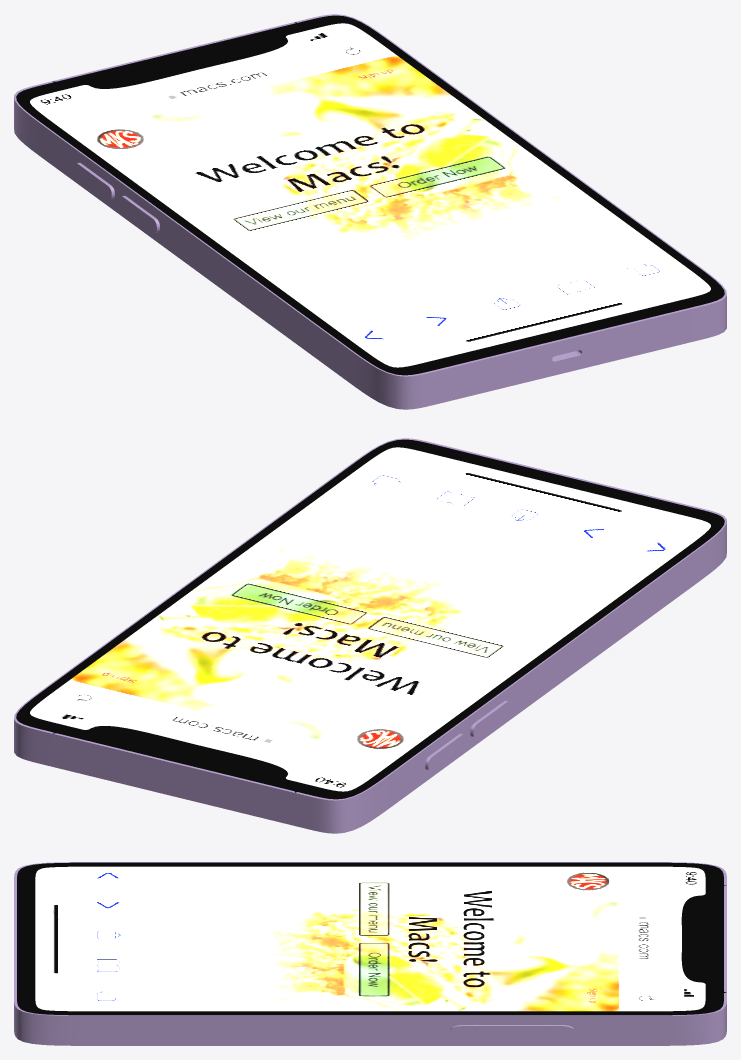
The model's file is macsPhone.gltf.
The picture shows the model from 3 angles, top to bottom: view 1: azimuth 30°, elevation 25°; view 2: azimuth 150°, elevation 25°; view 3: azimuth 270°, elevation 25°; orthographic projection. The views are drawn at different scales.
Parts seen in each view (by area): view 1: screen, phoneBase, front, volumeButtons; view 2: screen, phoneBase, front, volumeButtons; view 3: screen, phoneBase, front, powerButton.
Part boxes in pixels (x1,y1,x2,y2): screen: [30, 23, 710, 367]; phoneBase: [14, 14, 726, 409]; front: [16, 15, 724, 375]; volumeButtons: [74, 162, 159, 232]; screen: [30, 447, 710, 791]; phoneBase: [14, 438, 726, 833]; front: [16, 439, 724, 799]; volumeButtons: [425, 700, 510, 770]; screen: [35, 866, 705, 1011]; phoneBase: [14, 862, 726, 1045]; front: [17, 862, 726, 1015]; powerButton: [450, 1024, 573, 1037].
Bounding box in the file's own units: 2.24 × 0.2293 × 4.31.
8 materials, 1 textured.
